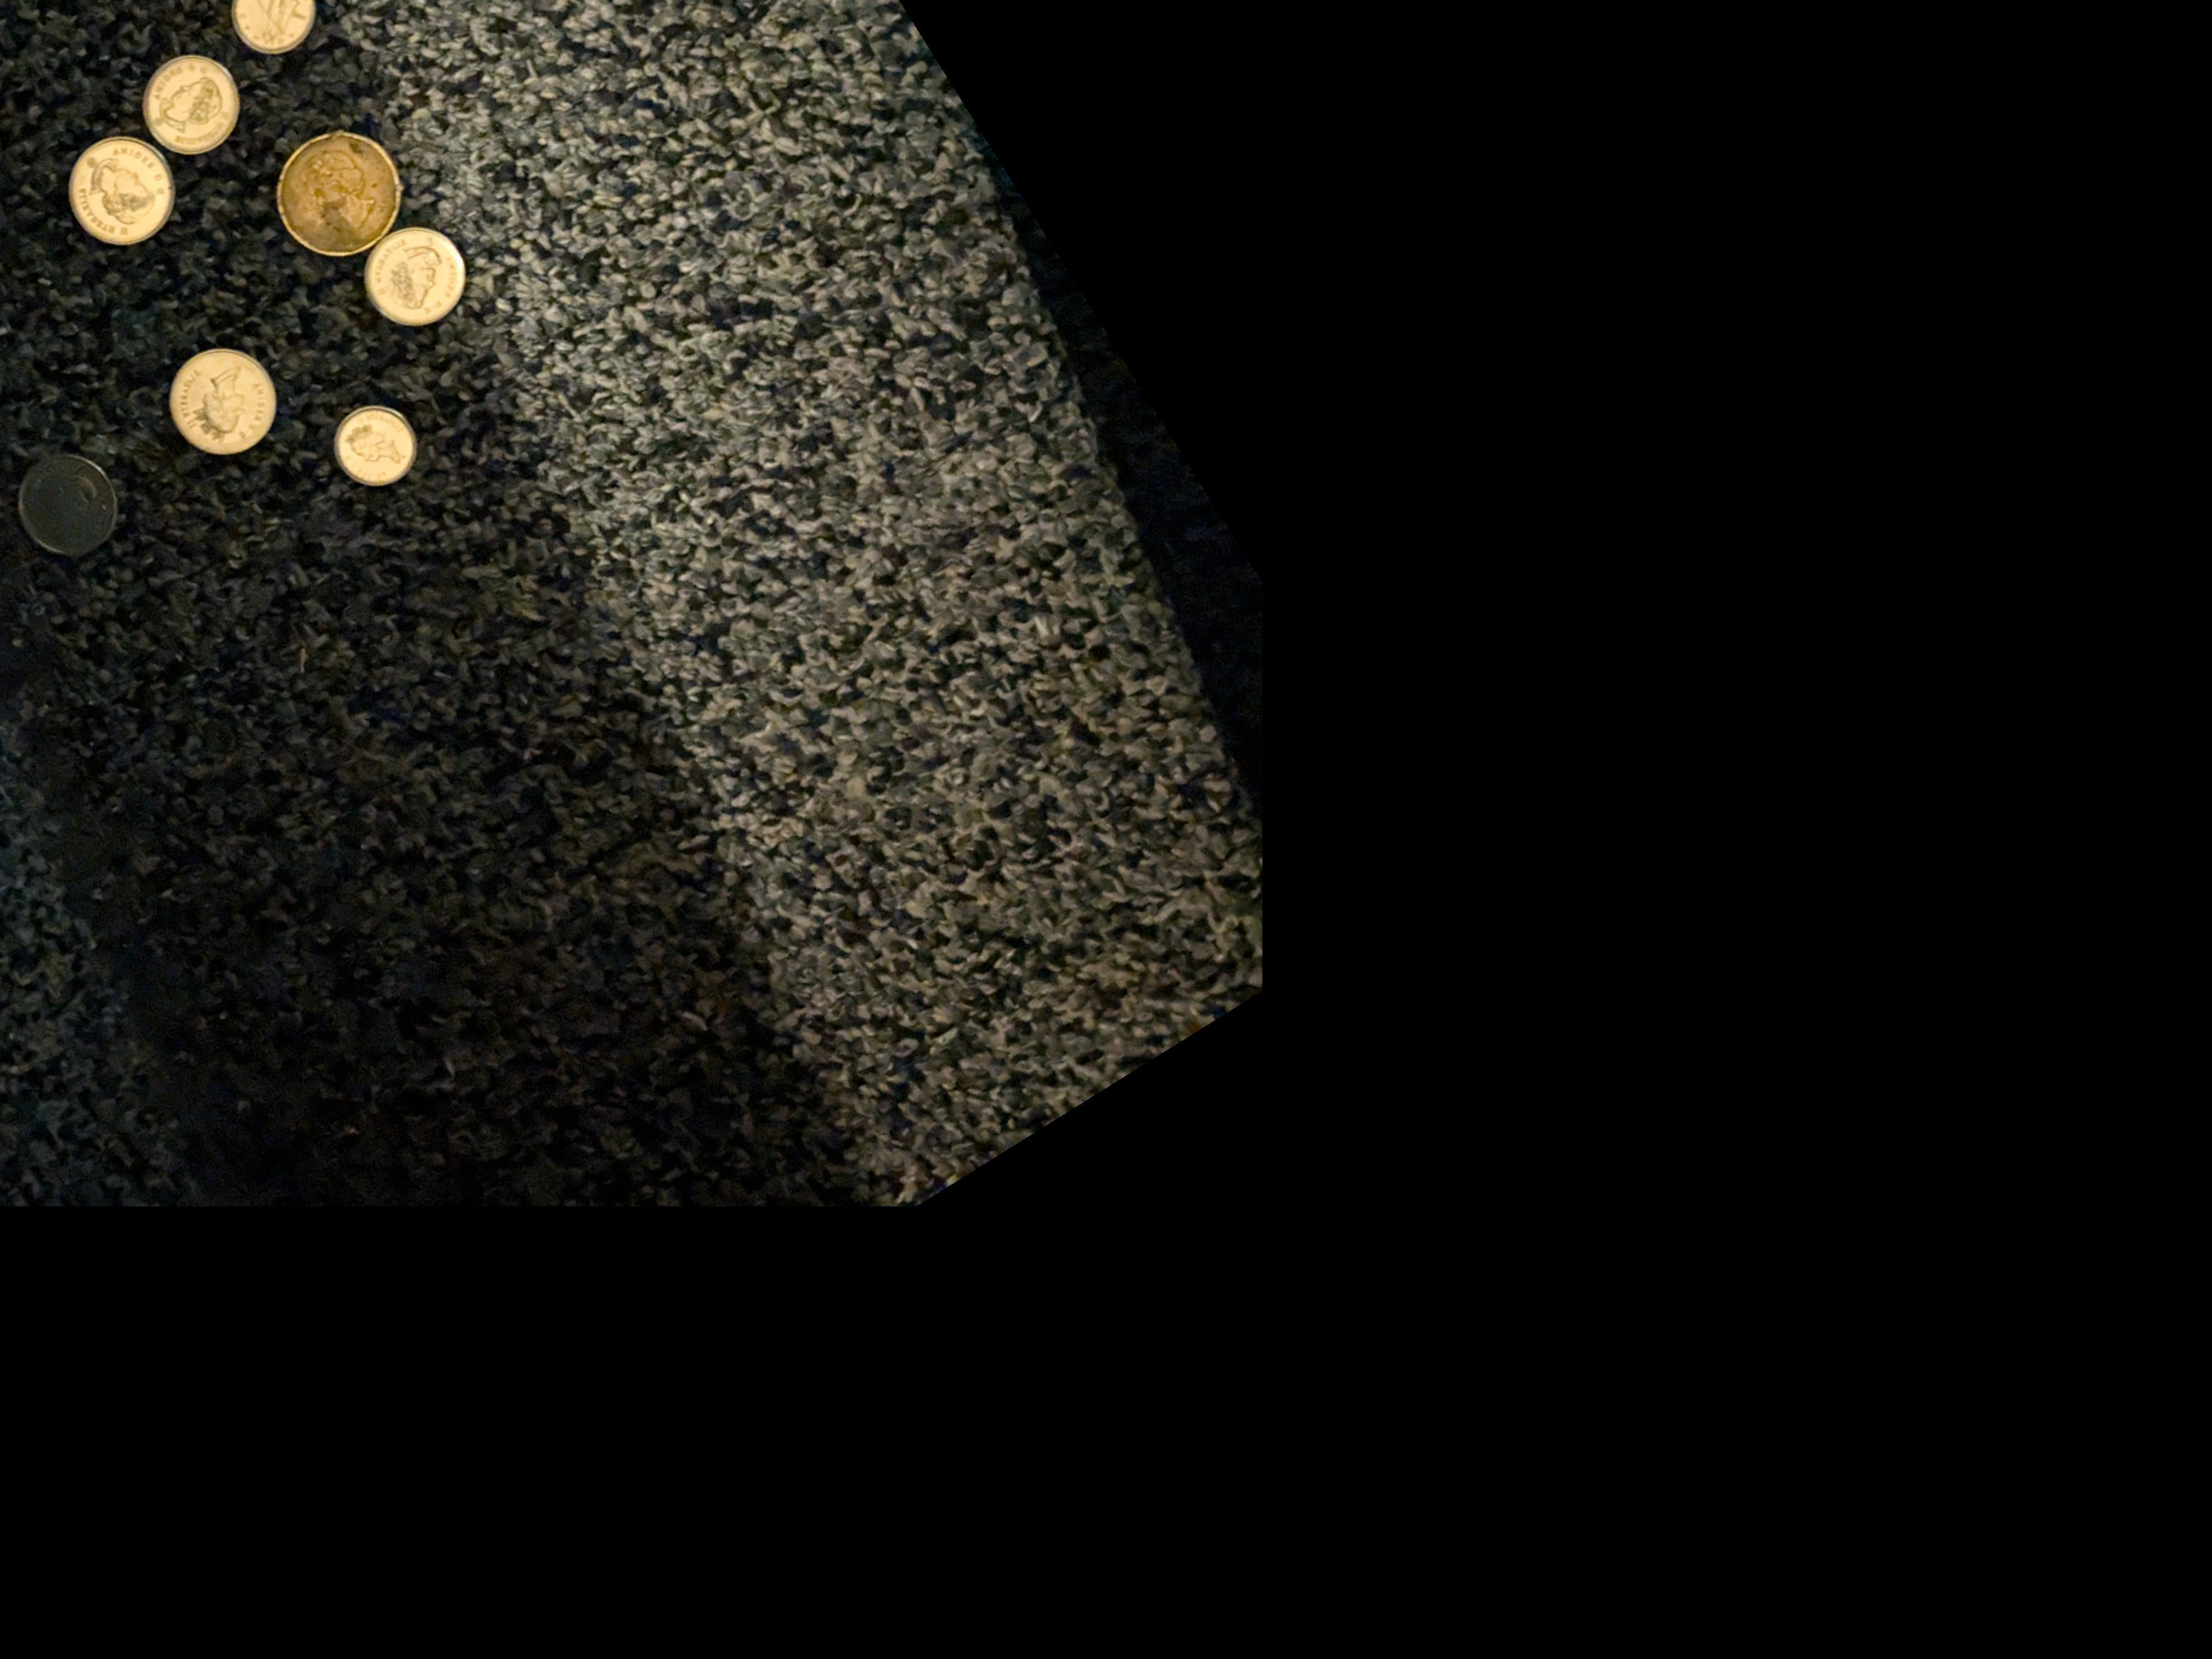dime: (341, 406, 413, 481), (233, 0, 317, 61)
loonie: (275, 125, 401, 256)
nickel: (16, 450, 125, 565), (368, 225, 474, 333), (145, 52, 242, 152)
quarter: (169, 345, 279, 460), (71, 138, 181, 249)
